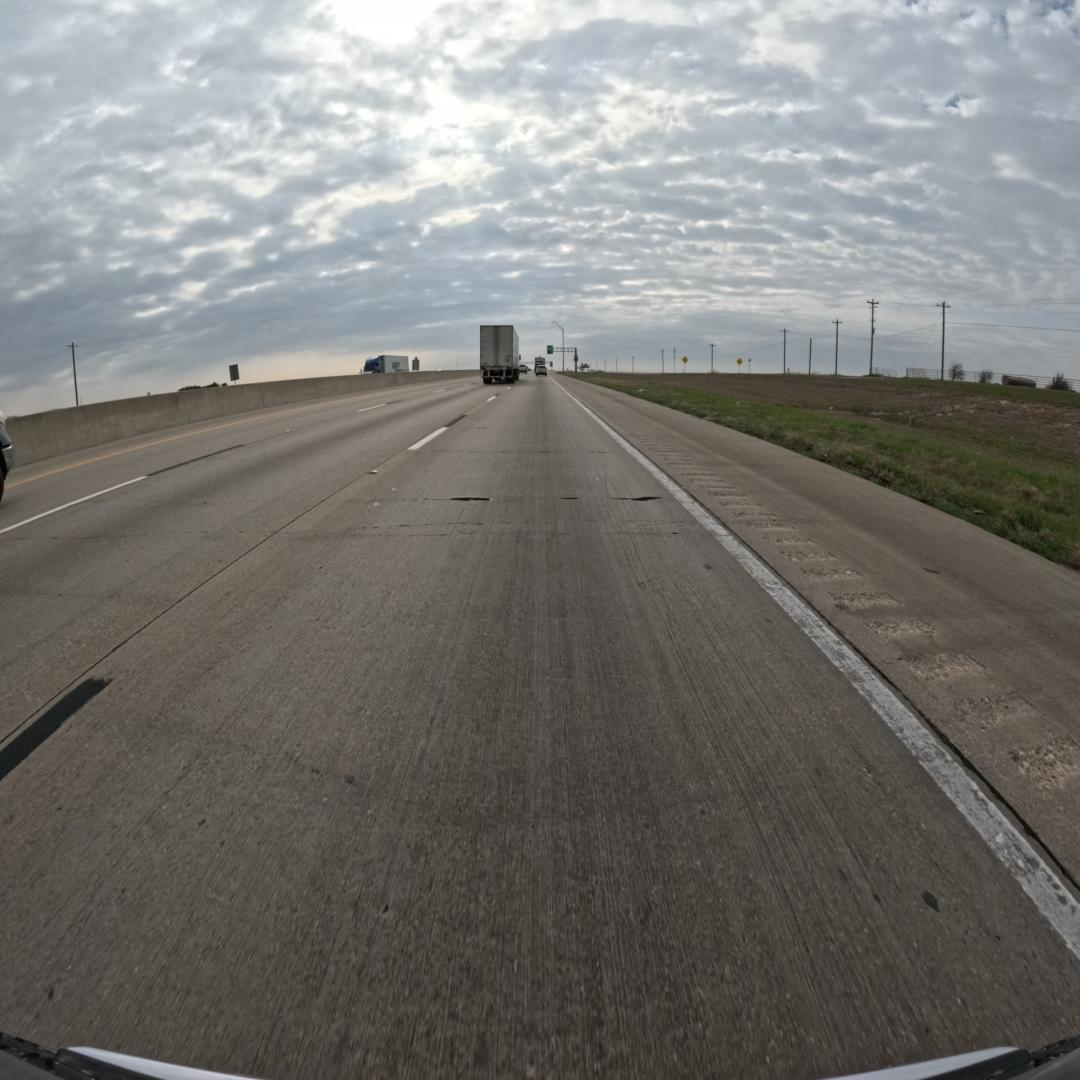lane0: (0, 380, 1080, 1077)
lane1: (0, 383, 508, 742)
